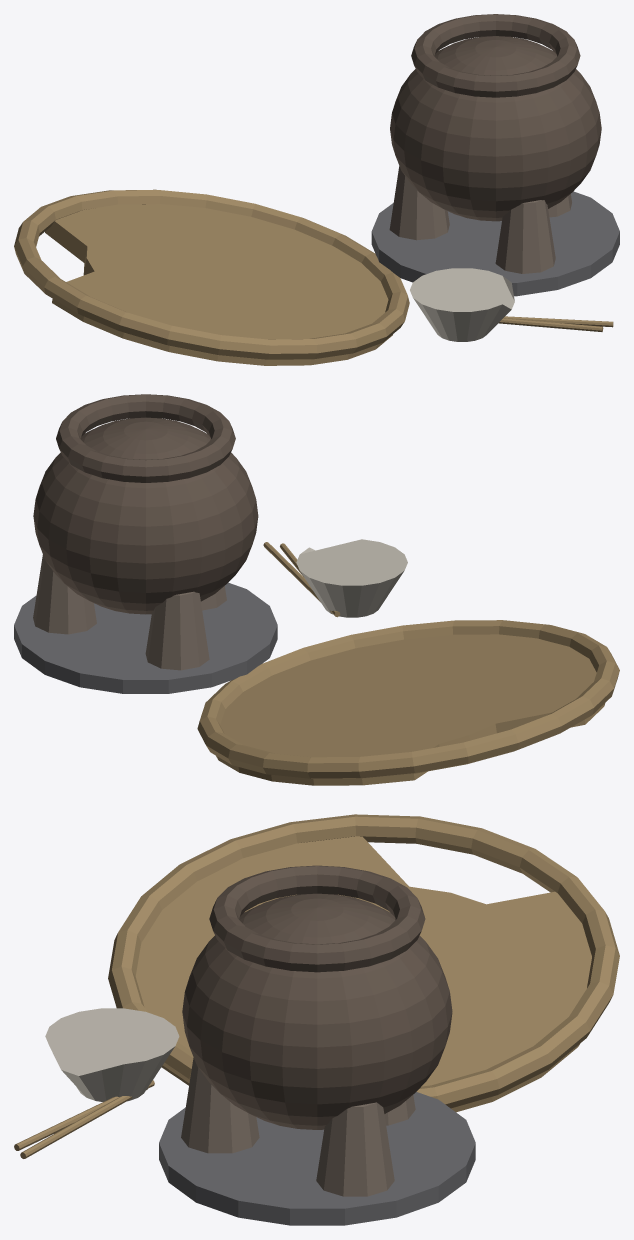
The model's file is peasant_hearth.glb.
3 renders of one model, top to bottom at view 1: azimuth 30°, elevation 25°; view 2: azimuth 150°, elevation 25°; view 3: azimuth 270°, elevation 25°, orthographic. The views are drawn at different scales.
Visible parts, largest first — view 1: Cylinder, Sphere, Torus, Cylinder.001, Torus.001, Cone.003, Cone.002, Cone.001, Cylinder.003, Cylinder.004; view 2: Cylinder, Sphere, Torus, Cylinder.001, Torus.001, Cone.003, Cone.001, Cone; view 3: Sphere, Cylinder, Torus, Cylinder.001, Torus.001, Cone.003, Cone, Cone.002, Cylinder.004, Cylinder.003.
Part boxes in pixels (<box>): Cylinder: <box>45,204,392,365</box>; Sphere: <box>390,36,601,221</box>; Torus: <box>14,189,409,359</box>; Cylinder.001: <box>371,191,619,296</box>; Torus.001: <box>411,14,580,97</box>; Cone.003: <box>410,268,514,341</box>; Cone.002: <box>495,200,555,273</box>; Cone.001: <box>389,166,449,240</box>; Cylinder.003: <box>498,318,603,331</box>; Cylinder.004: <box>503,316,613,327</box>; Cylinder: <box>216,634,605,785</box>; Sphere: <box>33,417,258,614</box>; Torus: <box>197,620,619,778</box>; Cylinder.001: <box>14,582,277,693</box>; Torus.001: <box>56,394,235,482</box>; Cone.003: <box>296,539,407,617</box>; Cone.001: <box>145,591,209,670</box>; Cone: <box>33,555,96,634</box>; Sphere: <box>182,893,452,1129</box>; Cylinder: <box>135,836,591,1112</box>; Torus: <box>108,814,619,1108</box>; Cylinder.001: <box>159,1092,475,1225</box>; Torus.001: <box>209,865,425,972</box>; Cone.003: <box>45,1008,179,1101</box>; Cone: <box>316,1102,394,1196</box>; Cone.002: <box>181,1057,259,1153</box>; Cylinder.004: <box>20,1087,148,1158</box>; Cylinder.003: <box>14,1080,154,1150</box>.
Size of the model in its own units: 0.858 by 0.3394 by 0.6503.
